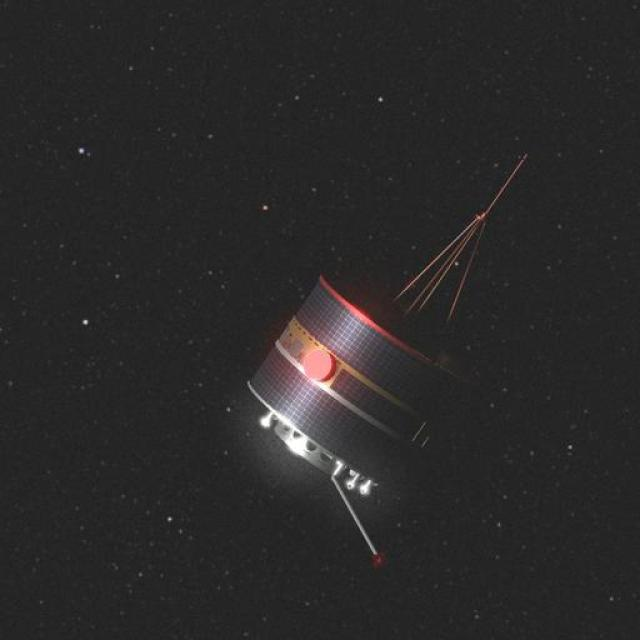double_start: (225, 204, 532, 516)
